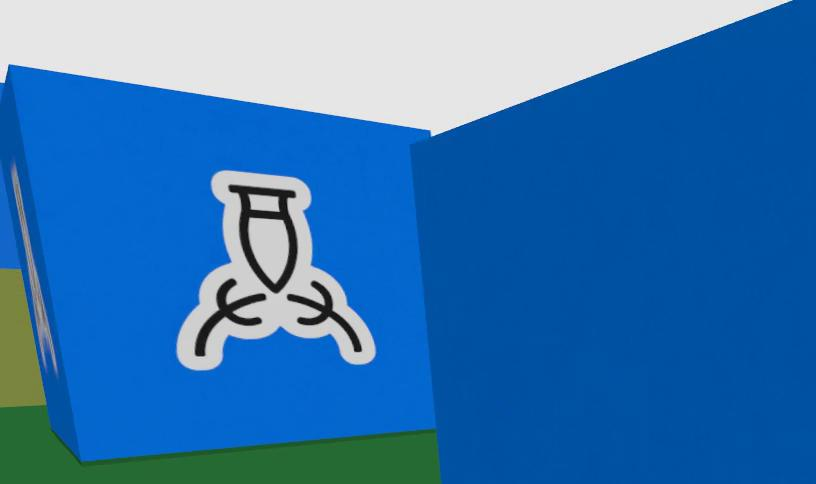KFS_REAL: (0, 66, 433, 460), (176, 170, 375, 370)
